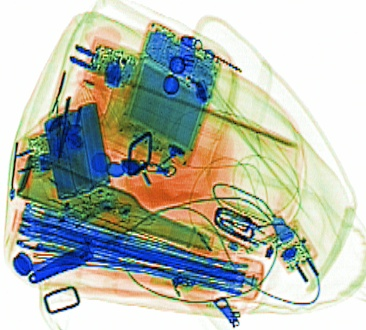powerbank: (38, 98, 117, 224)
